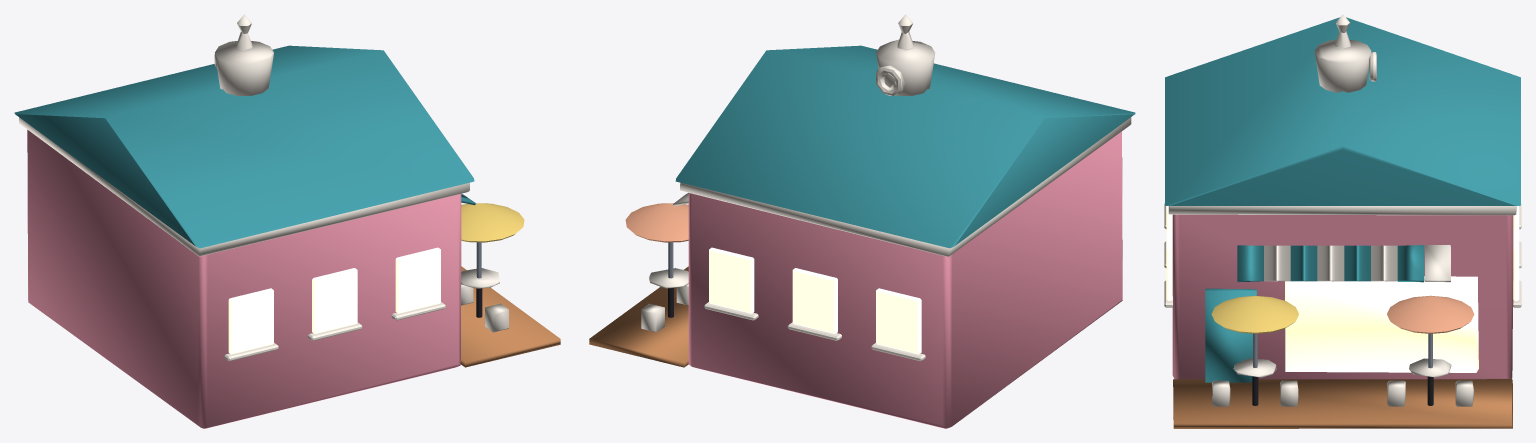
Rendered from cafe.glb.
3 views of the same model, side by side, from view 1: azimuth 30°, elevation 25°; view 2: azimuth 150°, elevation 25°; view 3: azimuth 270°, elevation 25° (orthographic). The views are drawn at different scales.
Parts seen in each view (by area): view 1: cafe; view 2: cafe; view 3: cafe.
Part boxes in pixels (box(x1,y1,x2,y2)): cafe: box(14, 14, 560, 428); cafe: box(589, 14, 1135, 428); cafe: box(1164, 14, 1521, 428).
Size of the model in its own units: 8.37 by 7 by 7.34.
1 material, 1 textured.
